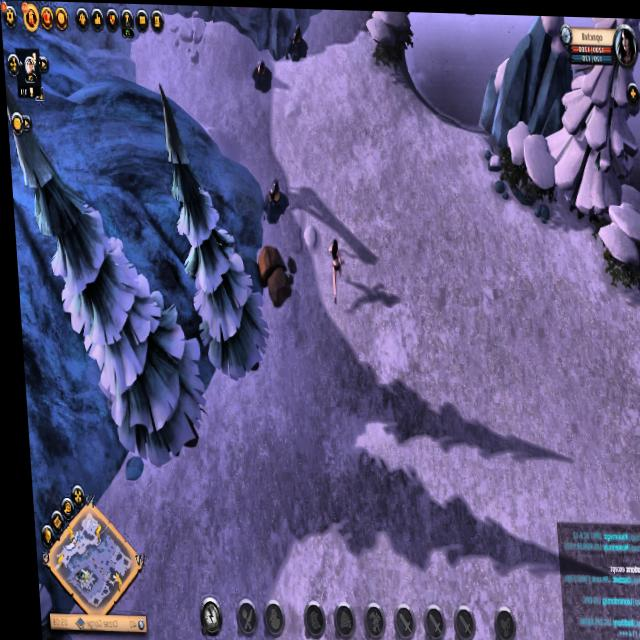copper_ore: (254, 168, 290, 226), (247, 49, 275, 97), (283, 20, 310, 65)
limestone: (248, 244, 295, 310)
